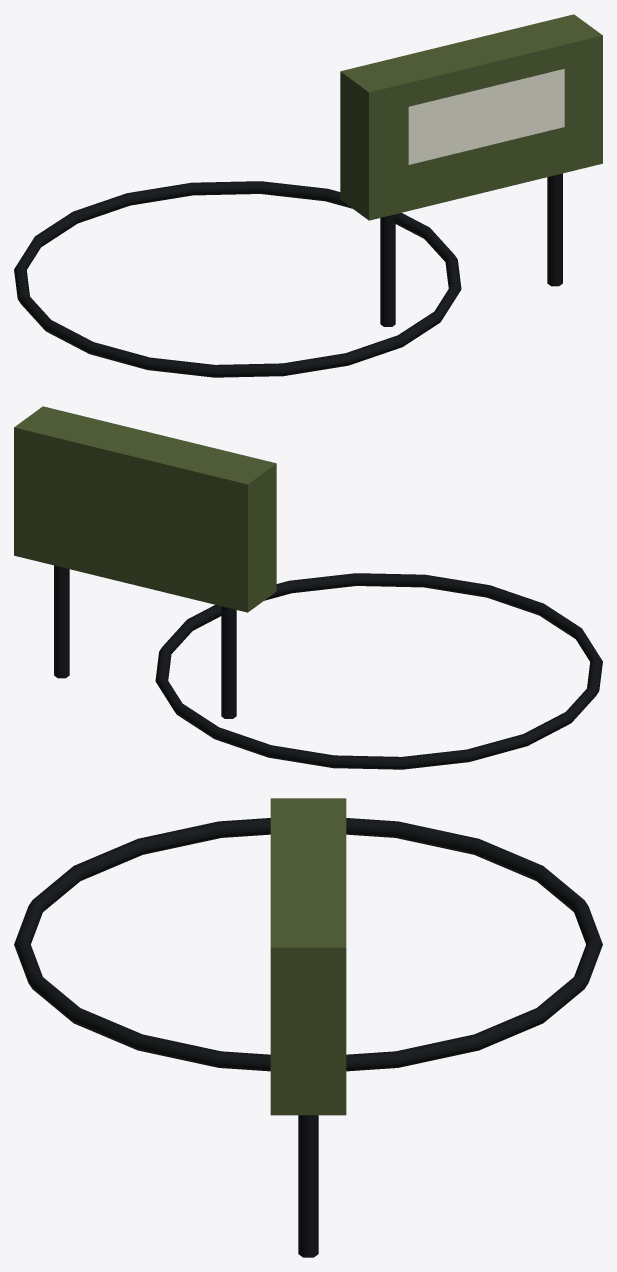
Rendered from claymore-mine.glb.
3 views of the same model, one above another, from view 1: azimuth 30°, elevation 25°; view 2: azimuth 150°, elevation 25°; view 3: azimuth 270°, elevation 25° (orthographic). The views are drawn at different scales.
Visible parts, largest first — view 1: mineBody, detWire, frontStencil, rightLeg, leftLeg; view 2: mineBody, detWire, rightLeg, leftLeg; view 3: mineBody, detWire, rightLeg.
Boxes of the visible parts, x1,y1,x2,y2 form: mineBody: [340, 14, 602, 220]; detWire: [14, 181, 461, 377]; frontStencil: [408, 69, 564, 164]; rightLeg: [547, 173, 562, 286]; leftLeg: [380, 214, 395, 326]; mineBody: [14, 406, 276, 612]; detWire: [155, 573, 602, 769]; rightLeg: [54, 565, 69, 678]; leftLeg: [221, 606, 236, 718]; mineBody: [270, 798, 346, 1115]; detWire: [14, 818, 602, 1071]; rightLeg: [298, 1115, 318, 1257].
Size of the model in its own units: 0.98 by 0.43 by 0.7.
